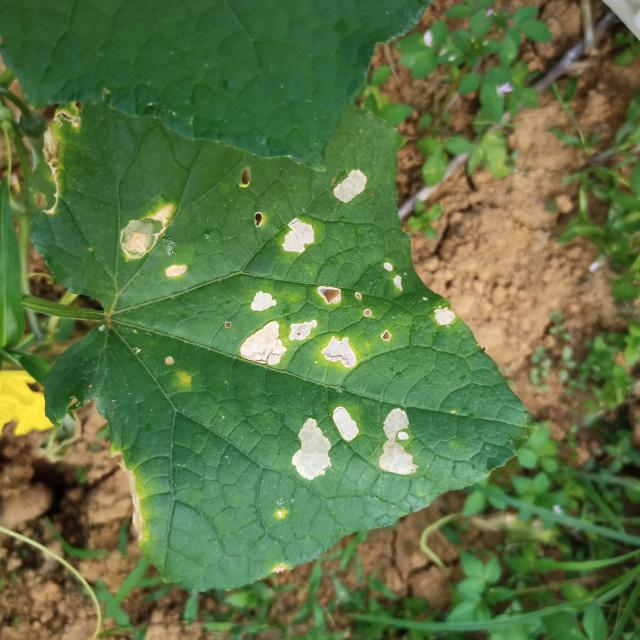disease_cucumber: (238, 283, 358, 370), (118, 202, 189, 280), (291, 405, 360, 482), (380, 407, 418, 476), (281, 217, 317, 254), (332, 168, 368, 203), (379, 260, 408, 294), (431, 303, 456, 327)
